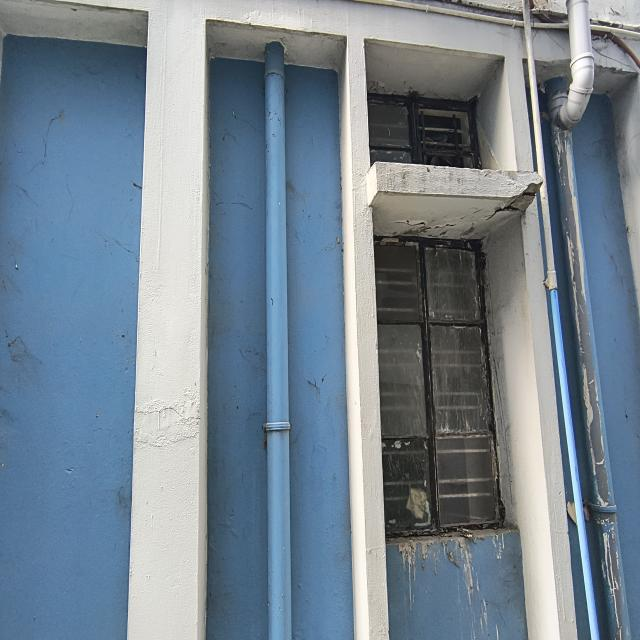peeling: (390, 209, 494, 240)
spalling: (486, 181, 543, 220)
